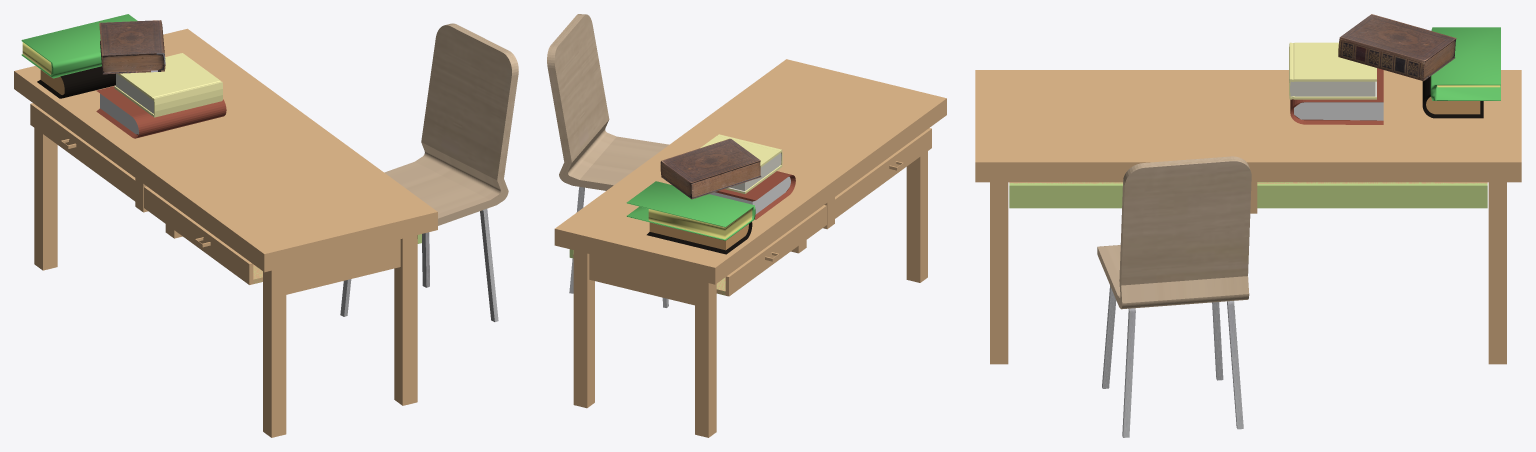
File: chair_desk_book.glb
3 views of the same model, side by side, from view 1: azimuth 30°, elevation 25°; view 2: azimuth 150°, elevation 25°; view 3: azimuth 270°, elevation 25° (orthographic). The views are drawn at different scales.
Visible parts, largest first — view 1: desk, chair, book_5.002; view 2: desk, book_5.002, chair; view 3: desk, chair, book_5.002.
Boxes of the visible parts, left/top/right/bottom form: desk: left=14, top=28, right=437, bottom=437; chair: left=340, top=23, right=518, bottom=321; book_5.002: left=21, top=14, right=226, bottom=138; desk: left=554, top=59, right=946, bottom=437; book_5.002: left=626, top=134, right=795, bottom=254; chair: left=547, top=14, right=668, bottom=307; desk: left=975, top=70, right=1521, bottom=364; chair: left=1097, top=156, right=1251, bottom=437; book_5.002: left=1289, top=14, right=1500, bottom=124.
Size of the model in its own units: 1.91 by 1.44 by 2.5.
14 materials, 3 textured.
